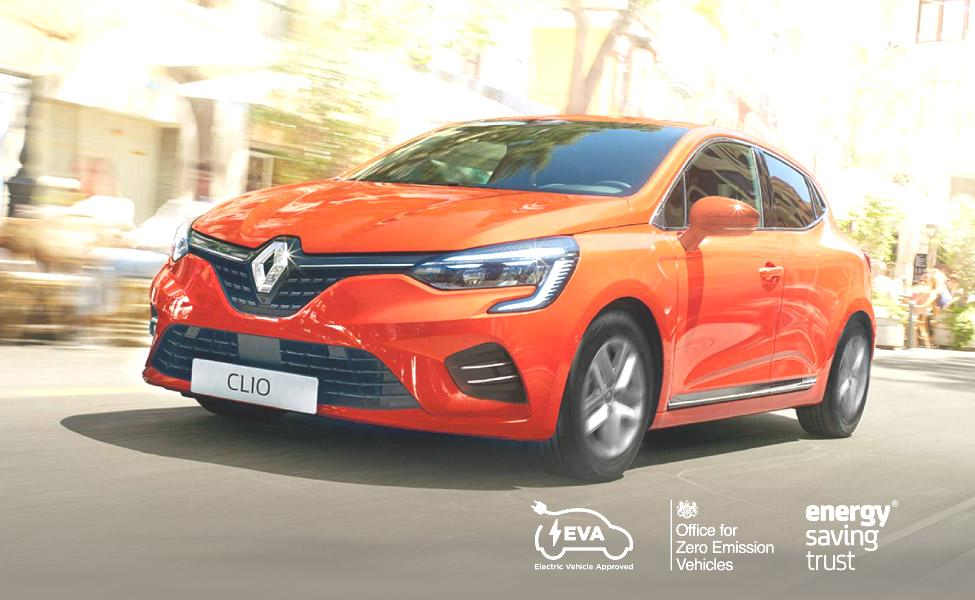Renault: (243, 234, 304, 300)
